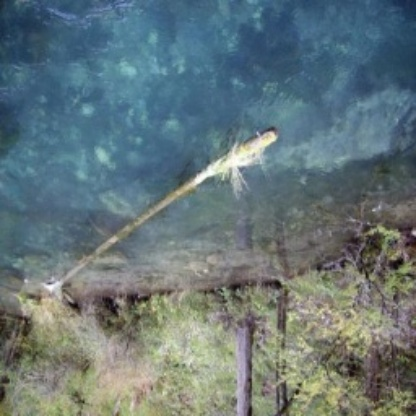branch: (44, 127, 281, 283)
